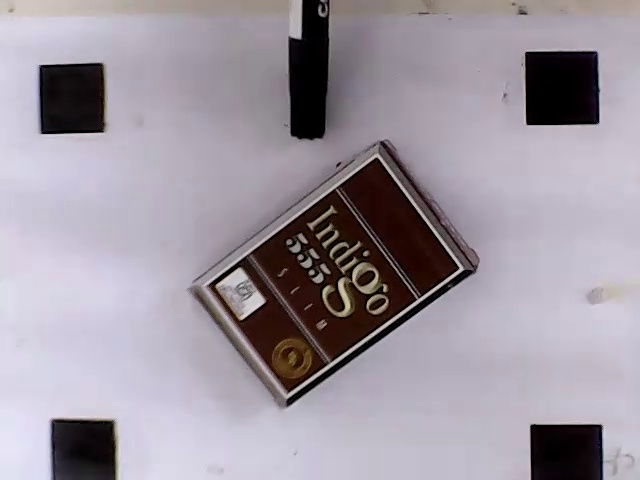BEX: (205, 155, 462, 395)
